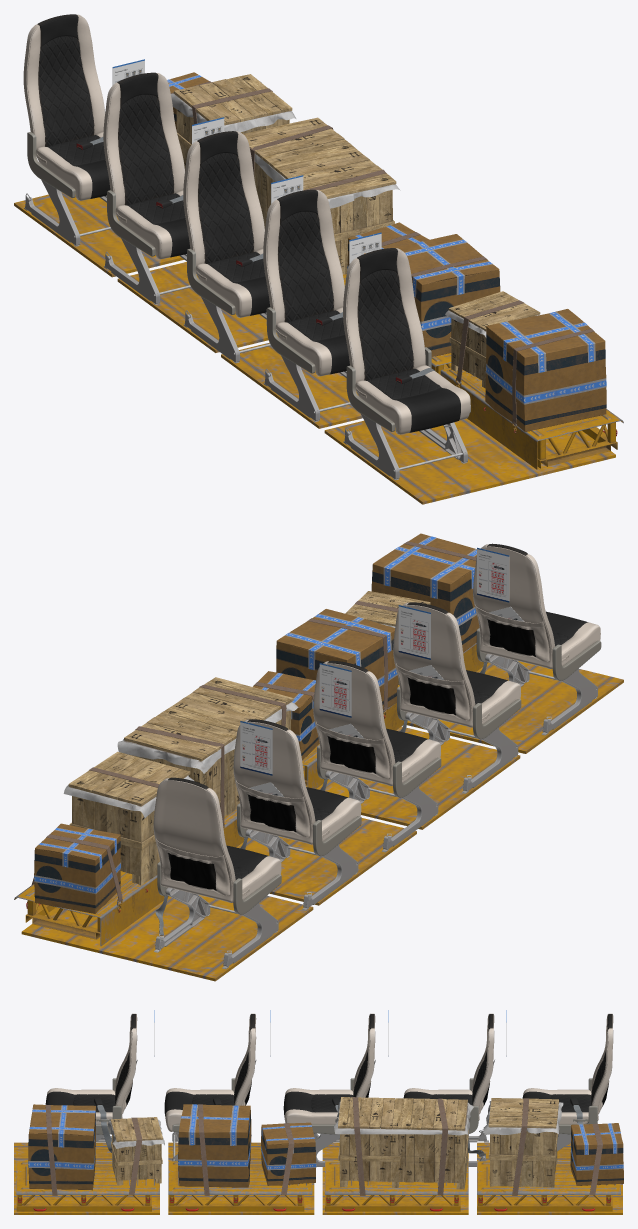
The model's file is Chair_Combi.gltf.
The picture shows the model from 3 angles, top to bottom: view 1: azimuth 30°, elevation 25°; view 2: azimuth 150°, elevation 25°; view 3: azimuth 270°, elevation 25°; orthographic projection. The views are drawn at different scales.
Parts seen in each view (by area): view 1: COM_BOX.012, COM_Plane.004, COM_Plane.009, COM_Plane.010, COM_Plane.008, COM_Plane.001, COM_BOX_1, COM_BOX_5, COM_BOX_3, COM_BOX.008, COM_BOX_6, COM_BOX_2 (+2 smaller); view 2: COM_BOX.012, COM_Plane.010, COM_Plane.009, COM_Plane.008, COM_Plane.004, COM_Plane.001, COM_BOX_5, COM_BOX_6, COM_BOX_1, COM_BOX_7, COM_BOX_3, COM_BOX.011 (+10 smaller); view 3: COM_BOX_5, COM_BOX.012, COM_BOX_6, COM_BOX_3, COM_BOX_1, COM_Plane.008, COM_BOX.008, COM_BOX.011, COM_BOX.010, COM_BOX.009, COM_Plane.010, COM_Plane.004 (+13 smaller).
Boxes of the visible parts, <box> form: COM_BOX.012: <box>14,192,615,504</box>; COM_Plane.004: <box>343,248,470,480</box>; COM_Plane.009: <box>103,72,190,304</box>; COM_Plane.010: <box>23,14,111,246</box>; COM_Plane.008: <box>183,131,270,363</box>; COM_Plane.001: <box>263,189,350,421</box>; COM_BOX_1: <box>485,309,606,431</box>; COM_BOX_5: <box>243,117,400,274</box>; COM_BOX_3: <box>392,234,500,356</box>; COM_BOX.008: <box>440,367,623,469</box>; COM_BOX_6: <box>171,74,296,170</box>; COM_BOX_2: <box>445,291,540,388</box>; COM_BOX.012: <box>21,661,623,981</box>; COM_Plane.010: <box>153,777,281,969</box>; COM_Plane.009: <box>233,719,361,910</box>; COM_Plane.008: <box>313,660,441,852</box>; COM_Plane.004: <box>473,543,601,735</box>; COM_Plane.001: <box>393,602,521,793</box>; COM_BOX_5: <box>117,677,298,816</box>; COM_BOX_6: <box>63,751,193,885</box>; COM_BOX_1: <box>371,533,479,652</box>; COM_BOX_7: <box>34,823,120,913</box>; COM_BOX_3: <box>276,609,397,710</box>; COM_BOX.011: <box>14,871,168,946</box>; COM_BOX_5: <box>334,1097,473,1189</box>; COM_BOX.012: <box>14,1142,622,1214</box>; COM_BOX_6: <box>483,1098,563,1187</box>; COM_BOX_3: <box>178,1104,251,1187</box>; COM_BOX_1: <box>28,1104,95,1190</box>; COM_Plane.008: <box>283,1013,375,1166</box>; COM_BOX.008: <box>16,1161,159,1211</box>; COM_BOX.011: <box>477,1161,620,1211</box>; COM_BOX.010: <box>325,1161,468,1211</box>; COM_BOX.009: <box>168,1161,312,1211</box>; COM_Plane.010: <box>522,1013,613,1161</box>; COM_Plane.004: <box>45,1013,137,1161</box>.
Bounding box in the file's own units: 1.2 × 1.05 × 4.1.
